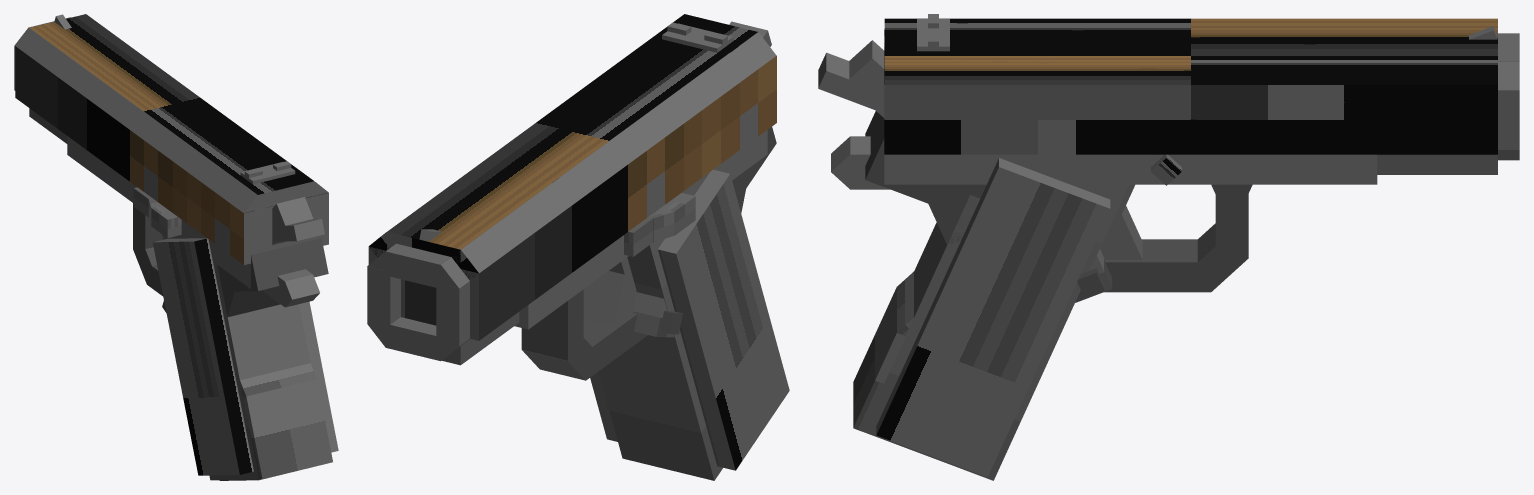
The model's file is mteg_m1911.glb.
3 renders of one model, left to right at view 1: azimuth 30°, elevation 25°; view 2: azimuth 150°, elevation 25°; view 3: azimuth 270°, elevation 25°, orthographic. The views are drawn at different scales.
Visible parts, largest first — view 1: Gun; view 2: Gun; view 3: Gun.
Part boxes in pixels (<box>): Gun: <box>14,14,338,480</box>; Gun: <box>367,14,789,480</box>; Gun: <box>818,14,1519,480</box>.
Bounding box in the file's own units: 0.0874 × 0.2711 × 0.4001.
Materials: 1 (1 with a texture image).
